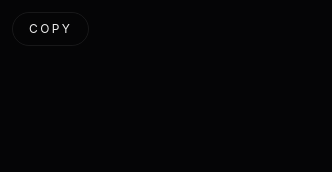
Scenario: copy email › copies the public address and says so
The width and height of the screenshot is (332, 172).
Click the button with aria-label "Copy email address" at (51, 29), box [12,12,89,46]
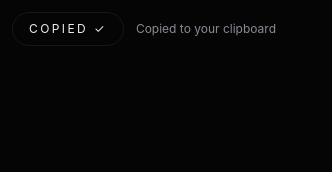
Expected: the message shows "Copied", [136,21,276,36]
